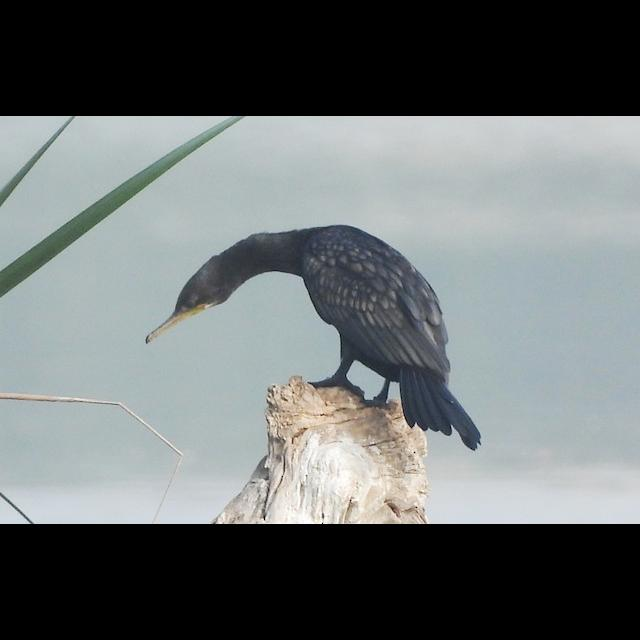cormorant: (146, 224, 482, 452)
